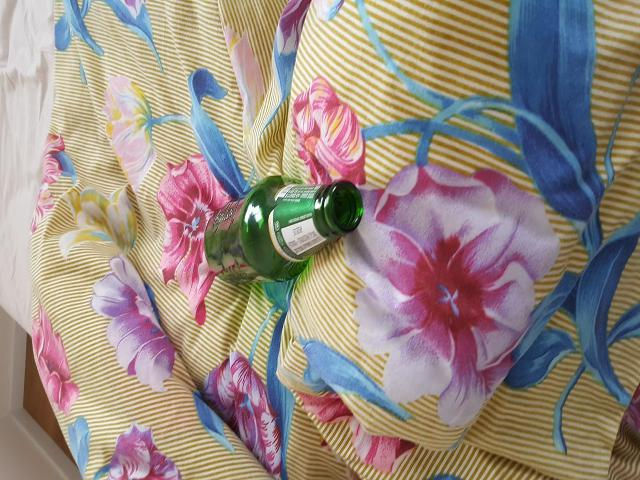beer: (204, 176, 362, 278)
